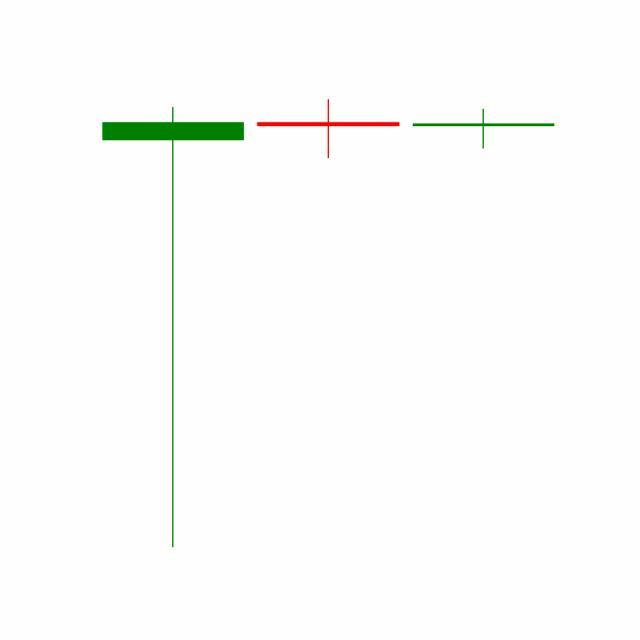Spinning Top: (406, 109, 562, 151)
